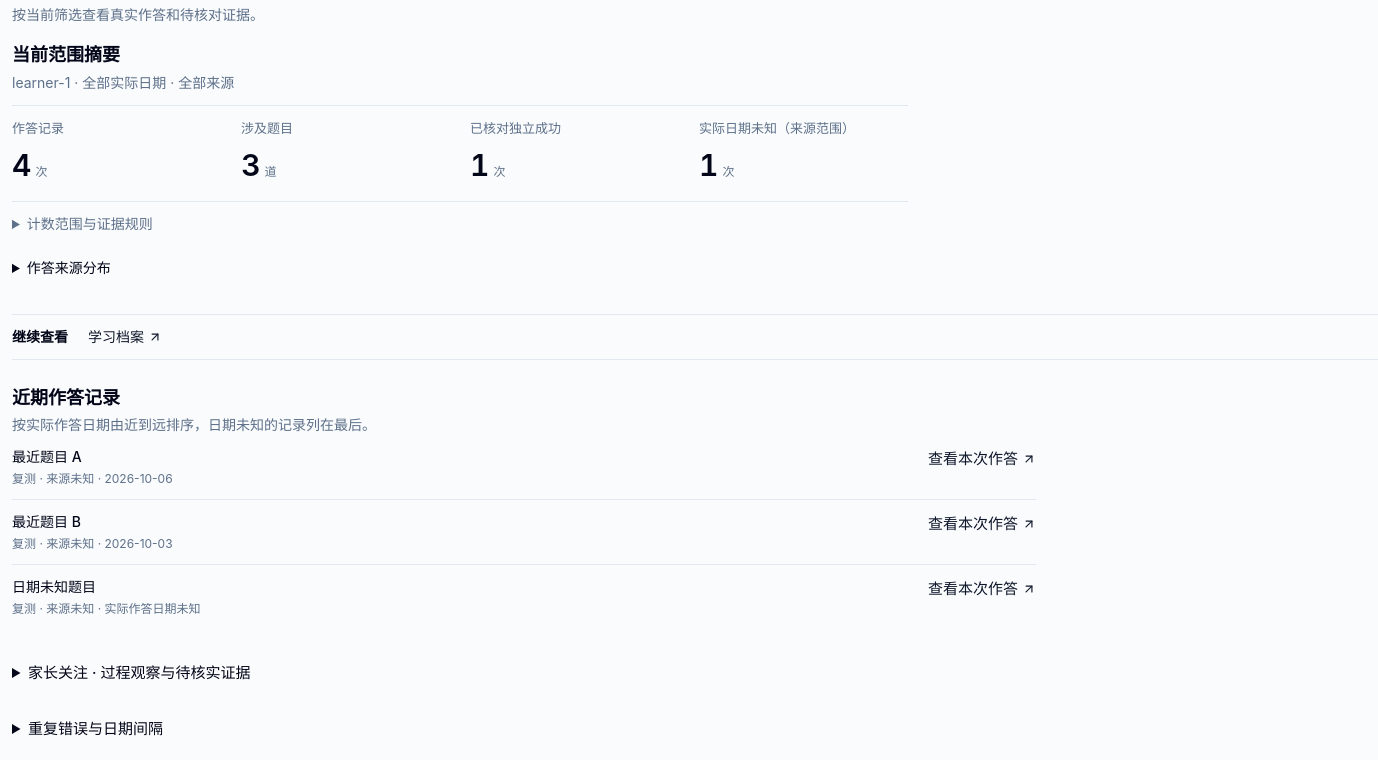
it: EvidenceWorkspace › shows recent real events in date order and keeps each unresolved event and revision distinct
(page scrolled)
Step 1. Click the heading "家长关注 · 过程观察与待核实证据" → (139, 673), box [28,663,250,682]
(page scrolled)
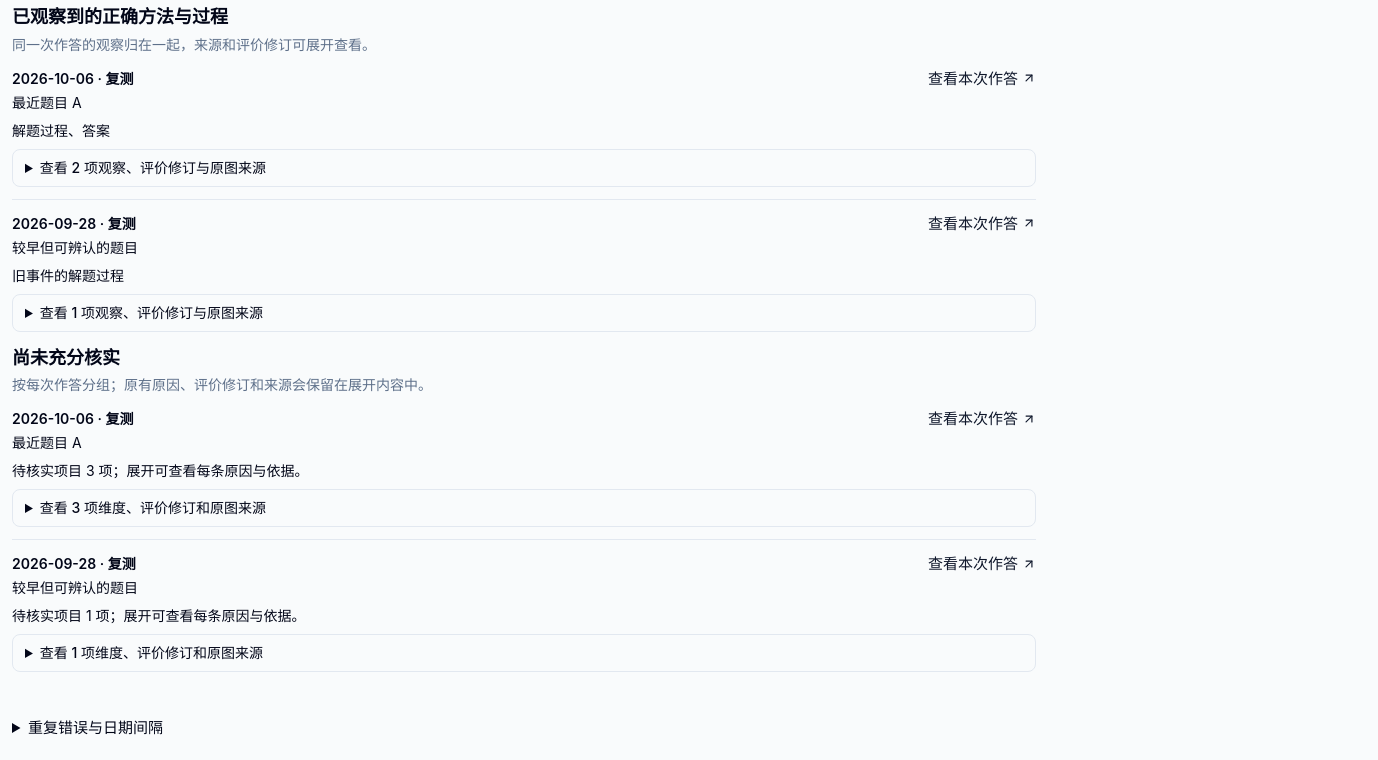
Expected: the text "较早但可辨认的题目" below "按每次作答分组；原有原因、评价修订和来源会保留在展开内容中。" is shown, [12,580,138,596]
Step 2. Click the heading "查看 3 项维度、评价修订和原图来源" → (153, 508), box [40,500,266,516]
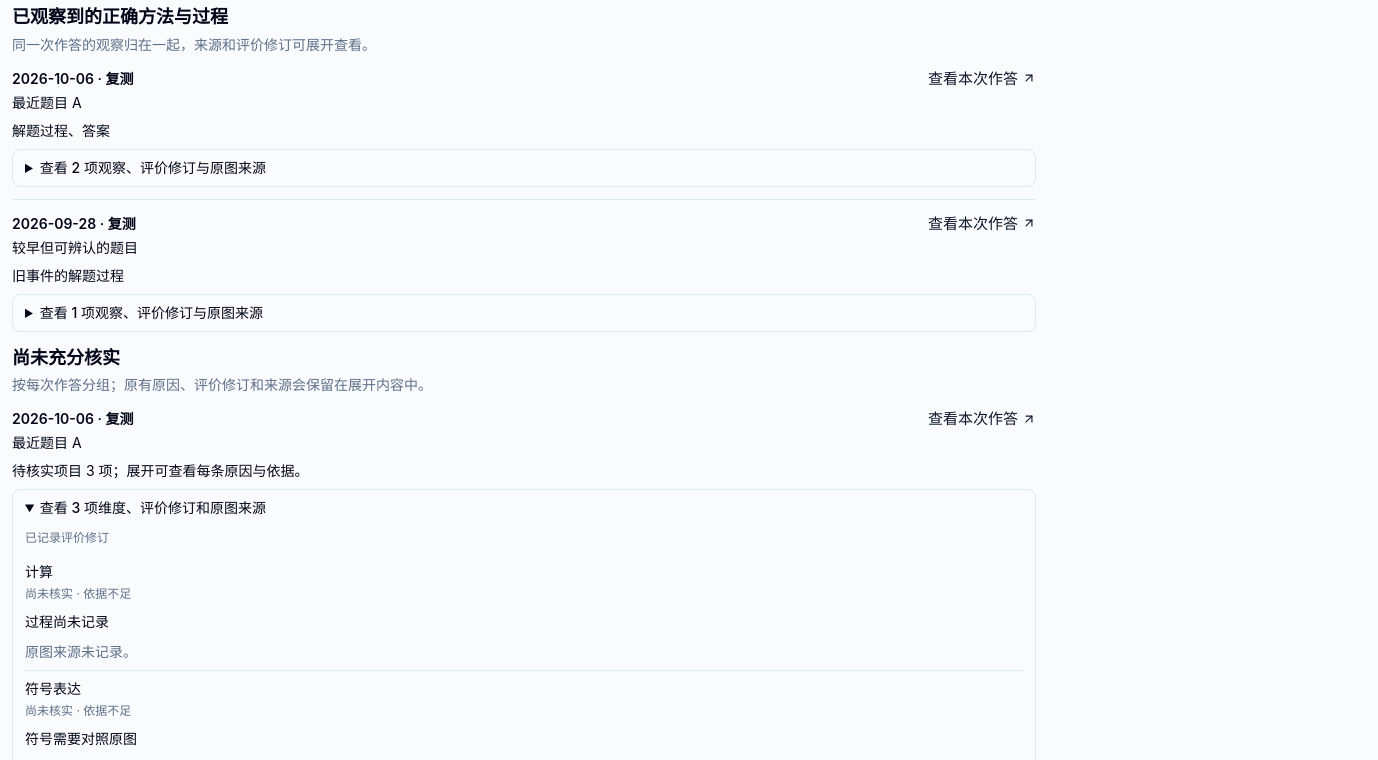
Expected: the number of headings "已记录评价修订" is 3
Expected: the text "过程尚未记录" is shown once, [25,614,109,630]
Expected: the text "符号需要对照原图" is shown, [25,730,137,748]
